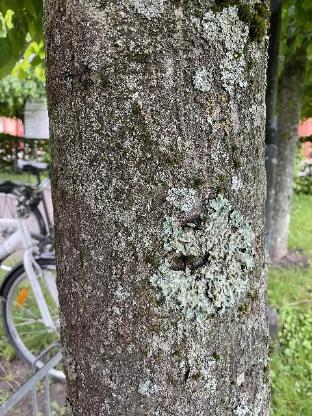tree: (35, 0, 282, 416)
